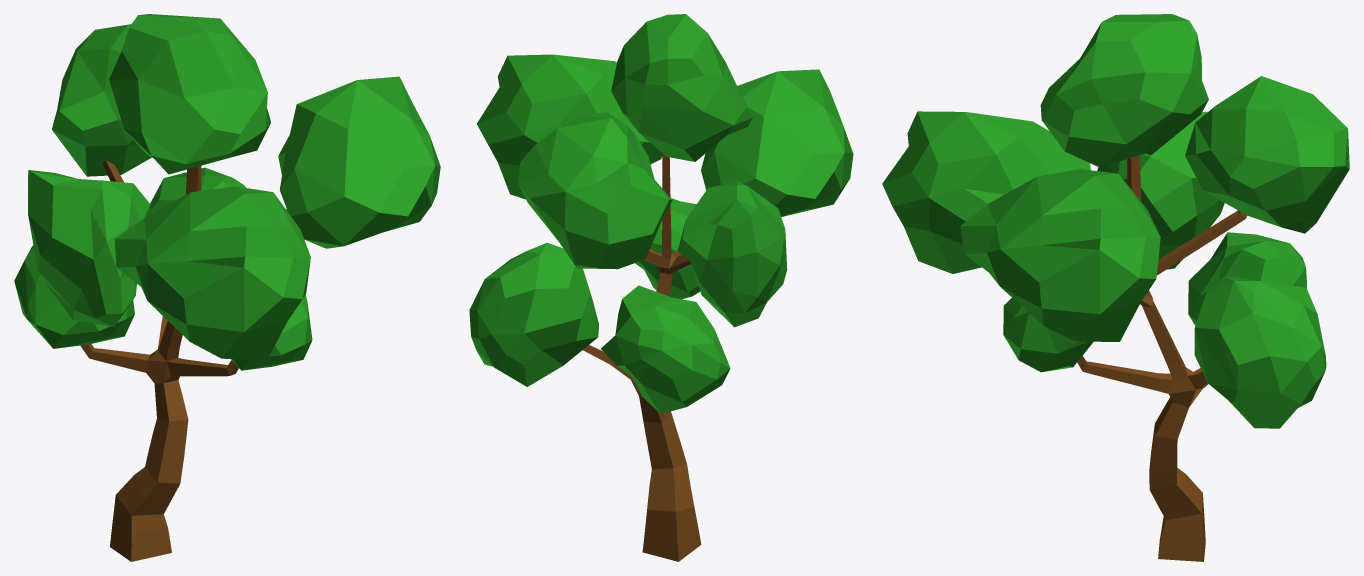
File: Tree1.fbx
The picture shows the model from 3 angles, left to right: view 1: azimuth 30°, elevation 25°; view 2: azimuth 150°, elevation 25°; view 3: azimuth 270°, elevation 25°; orthographic projection. The views are drawn at different scales.
Visible parts, largest first — view 1: Cube.007; view 2: Cube.007; view 3: Cube.007.
Boxes of the visible parts, box(x1,y1,x2,y2) form: Cube.007: box(14, 14, 440, 561); Cube.007: box(469, 14, 853, 561); Cube.007: box(882, 14, 1349, 561).
Bounding box in the file's own units: 433 × 650 × 508.
